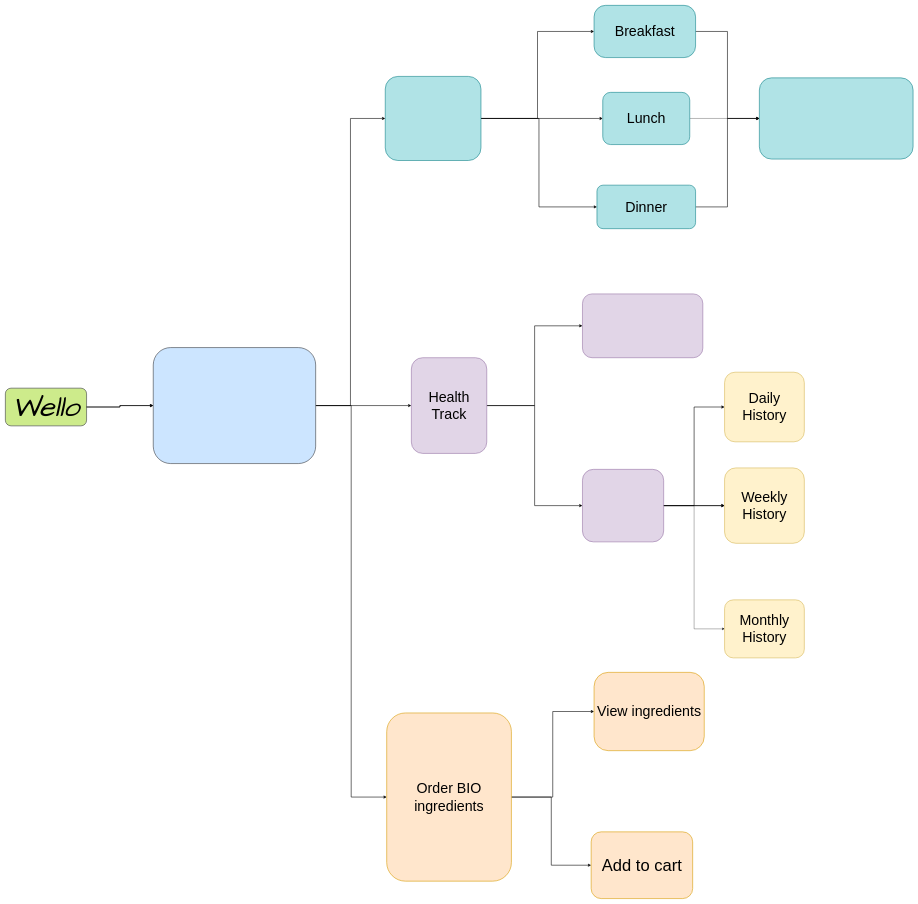
The diagram is 918 pixels wide and 904 high, and some of its shapes have lost their labels. Here are the shapes that lost their labels. From the top down, the centre of each, then its label:
At [433,118]: "Recipes".
At [836,118]: "View recipes".
At [642,325]: "Add text/informations".
At [234,405]: "FIRST TIME USER Enter your Health record Log your allergies".
At [623,505]: "Calorie Calculation".
